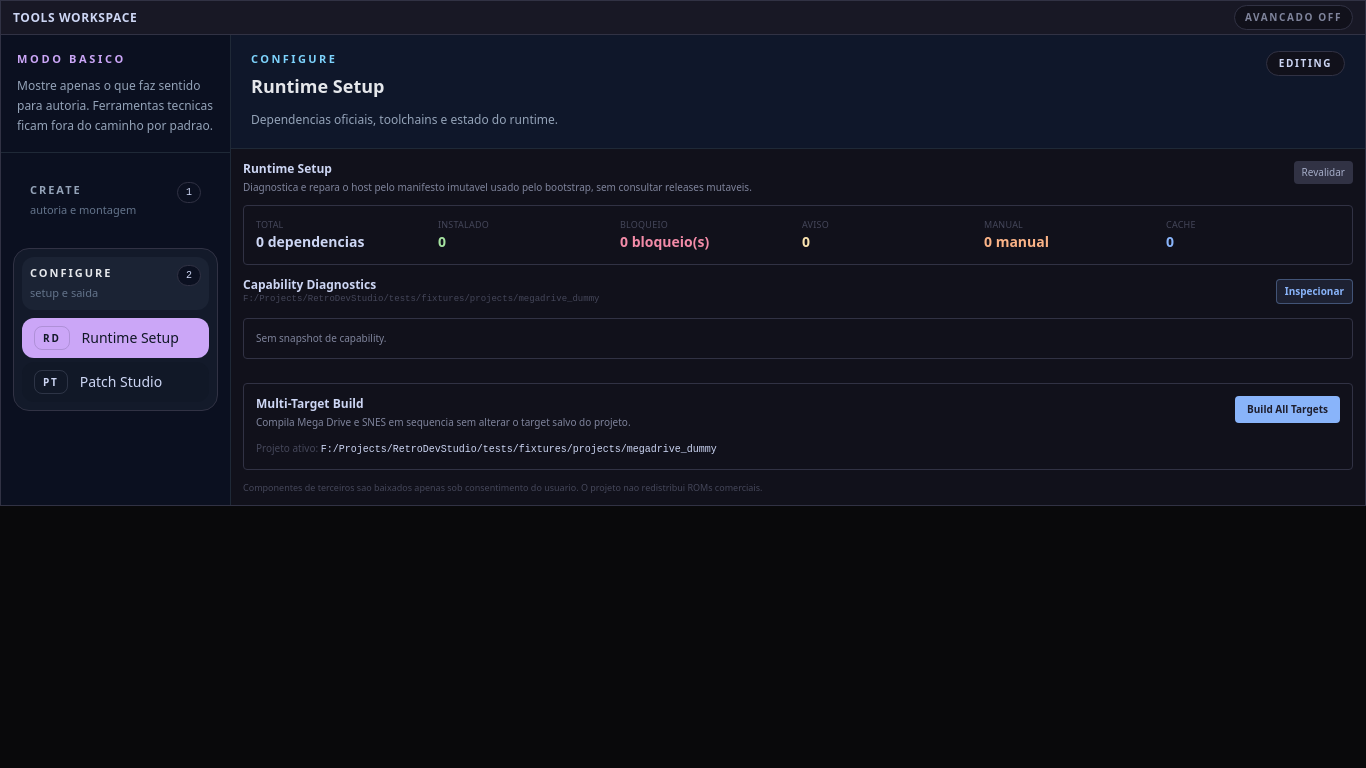
it: ToolsPanel Asset Browser › exposes Cross-Core Parity as an Experimental tool with required inputs
Click the button "Avancado OFF": (1294, 18) x1=1234 y1=5 x2=1353 y2=30
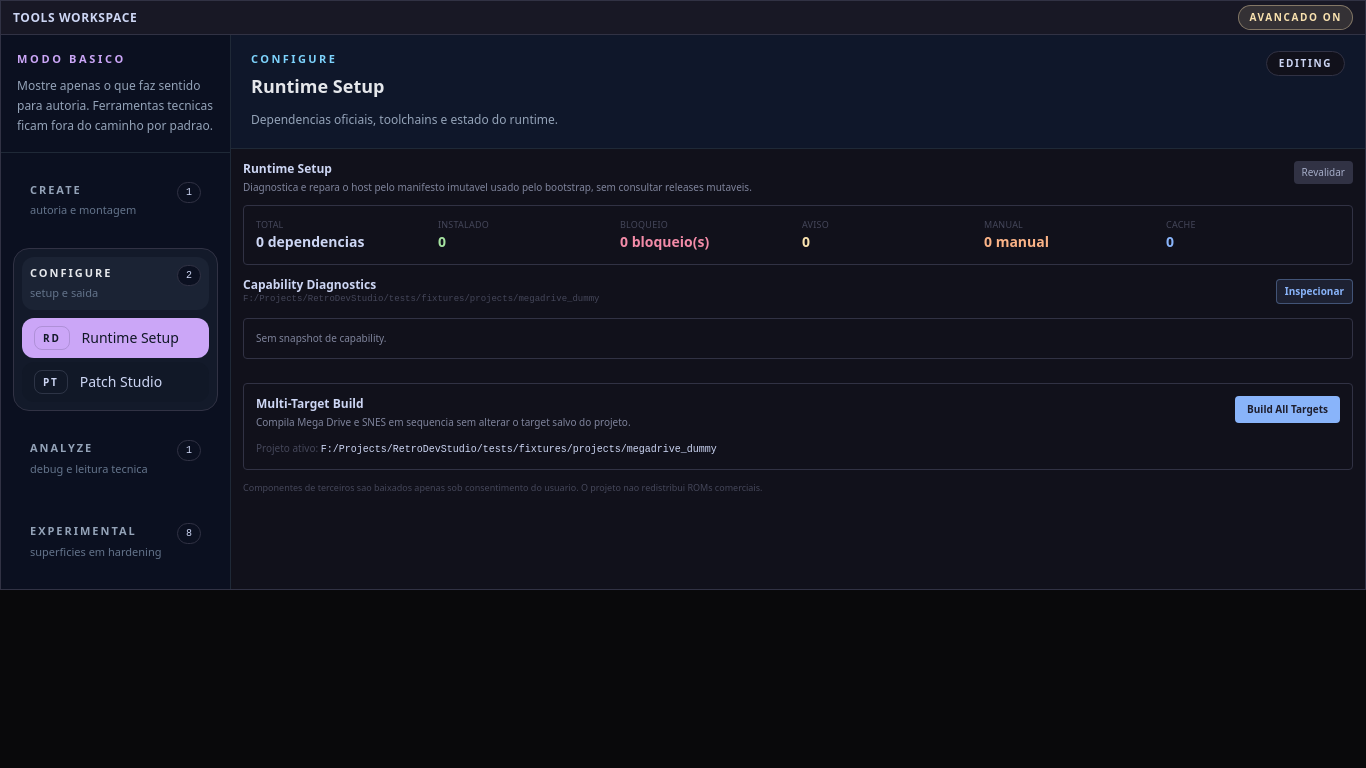
Click the button "Experimental superficies em hardening 8": (116, 542) x1=22 y1=515 x2=209 y2=568
(page scrolled)
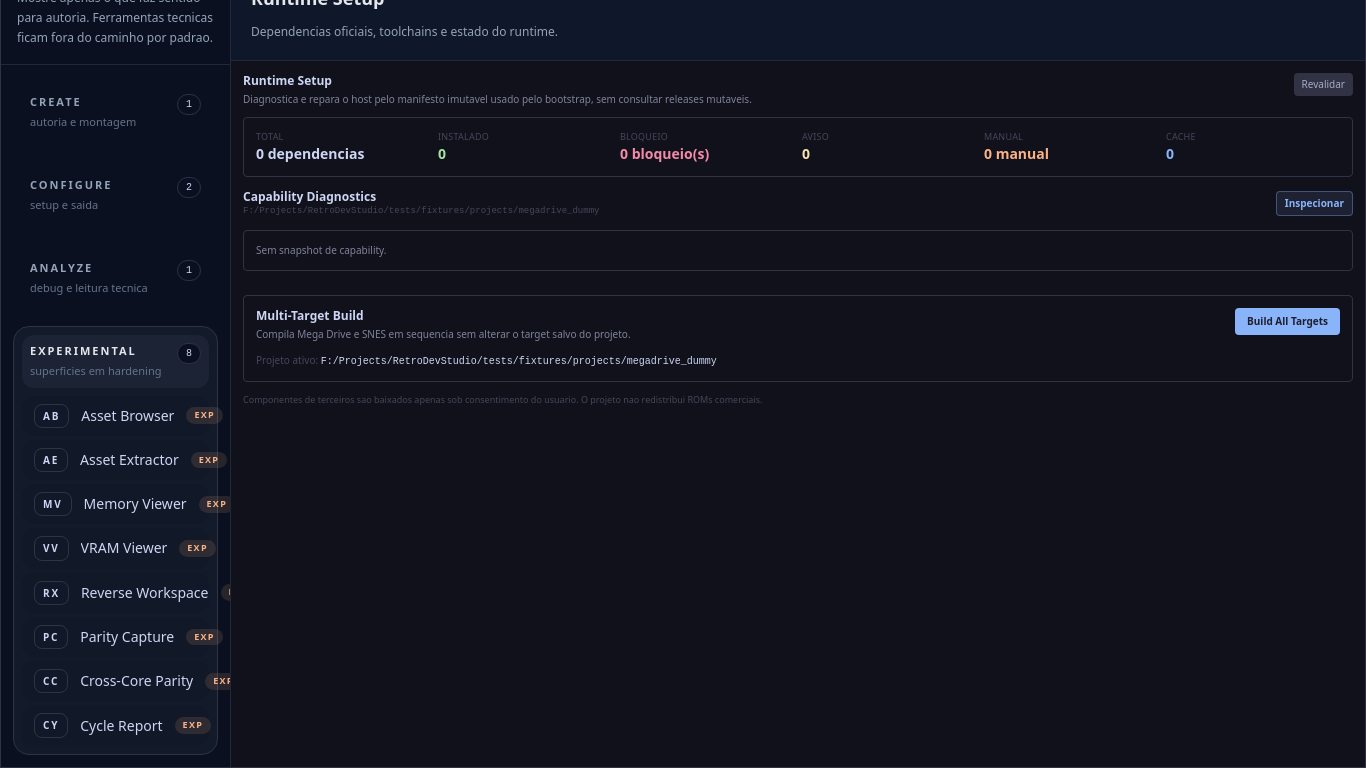
Click the button "CC Cross-Core Parity Exp": (116, 681) x1=22 y1=661 x2=209 y2=702
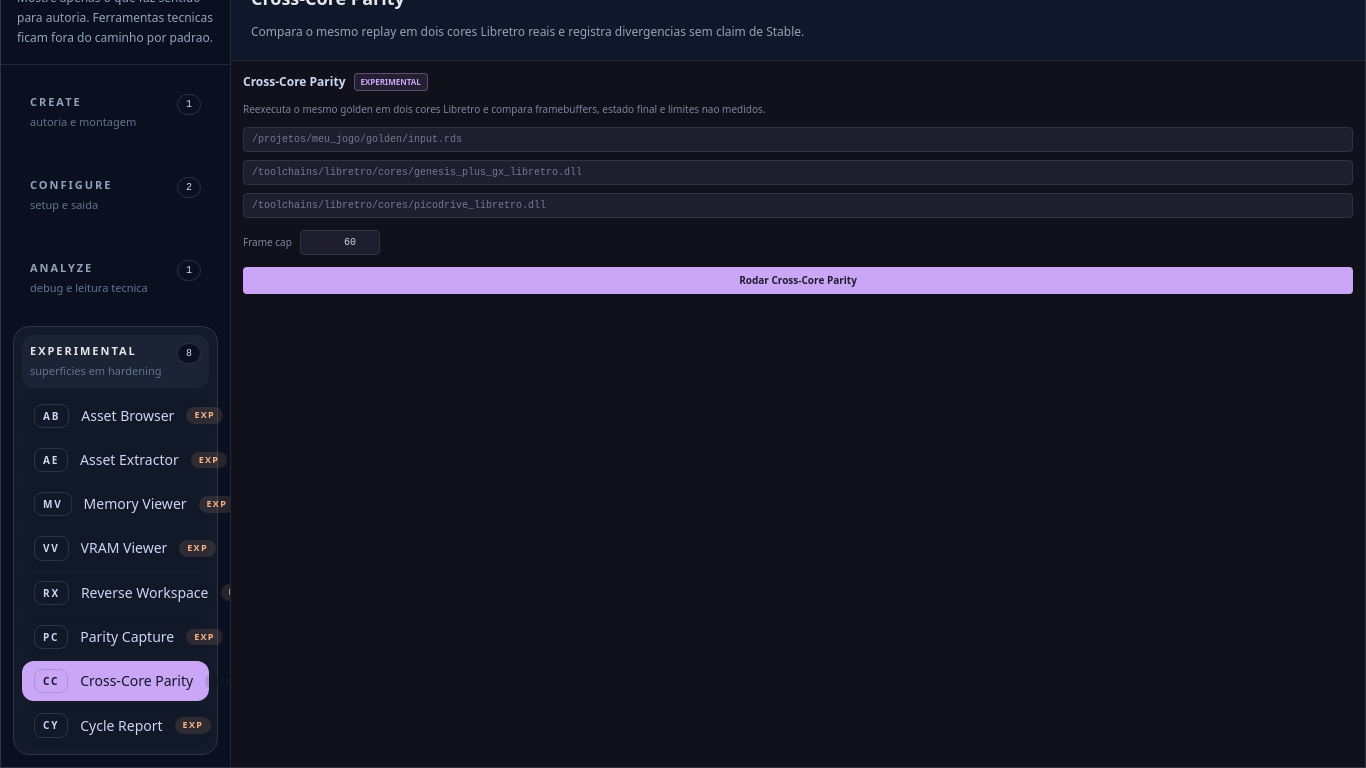
Expected: the element with test id "cross-core-parity-section" is shown, x1=231 y1=60 x2=1365 y2=306
Expected: the element with test id "cross-core-parity-section" shows "Experimental", x1=360 y1=76 x2=421 y2=86
Click the button "Rodar Cross-Core Parity": (798, 280) x1=243 y1=267 x2=1353 y2=294
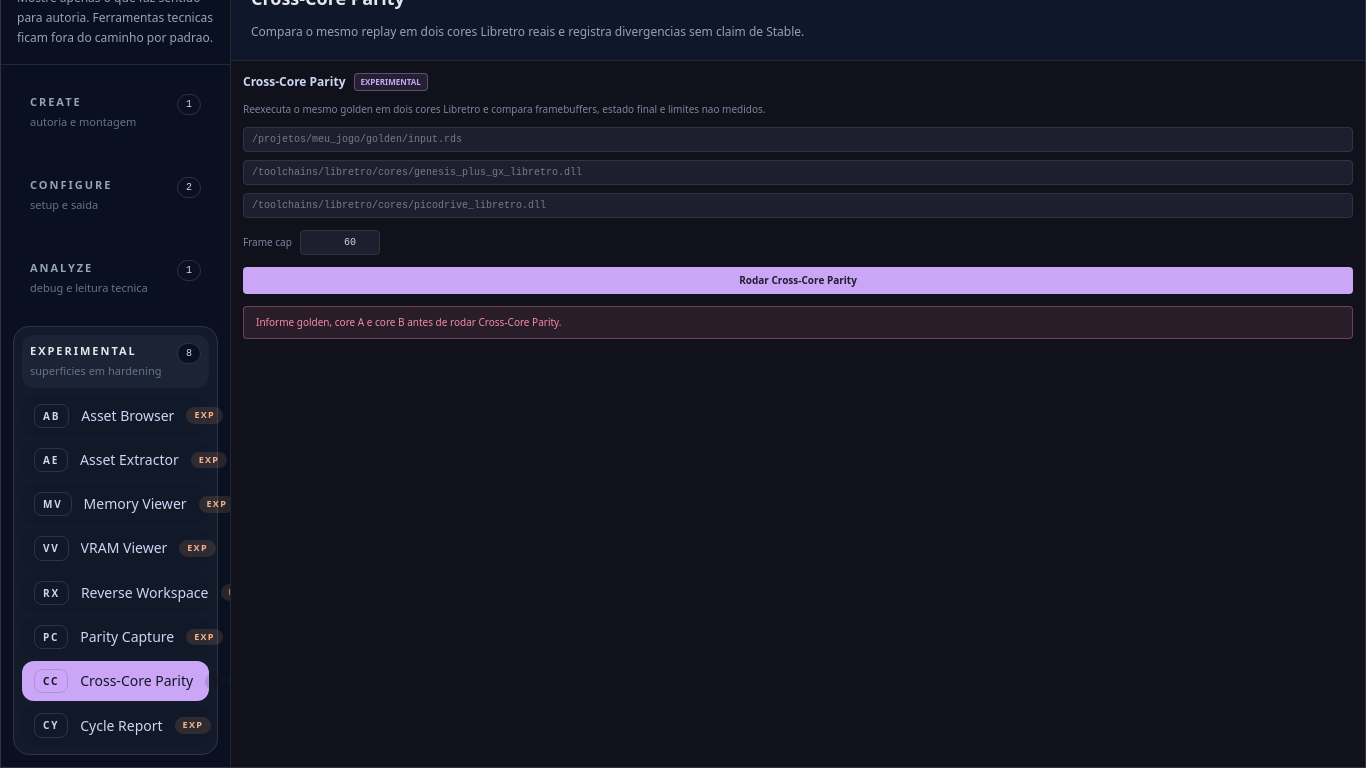
Expected: the text "Informe golden, core A e core B" is shown, x1=256 y1=315 x2=562 y2=329
